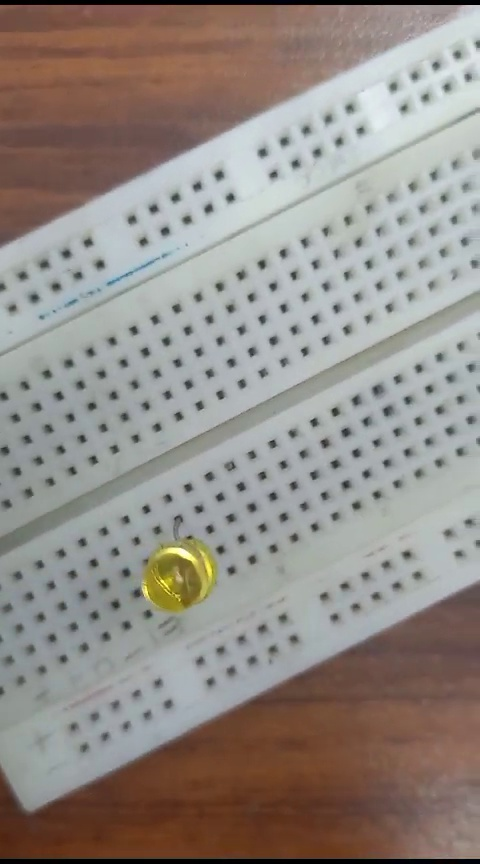LED: (135, 520, 210, 617)
